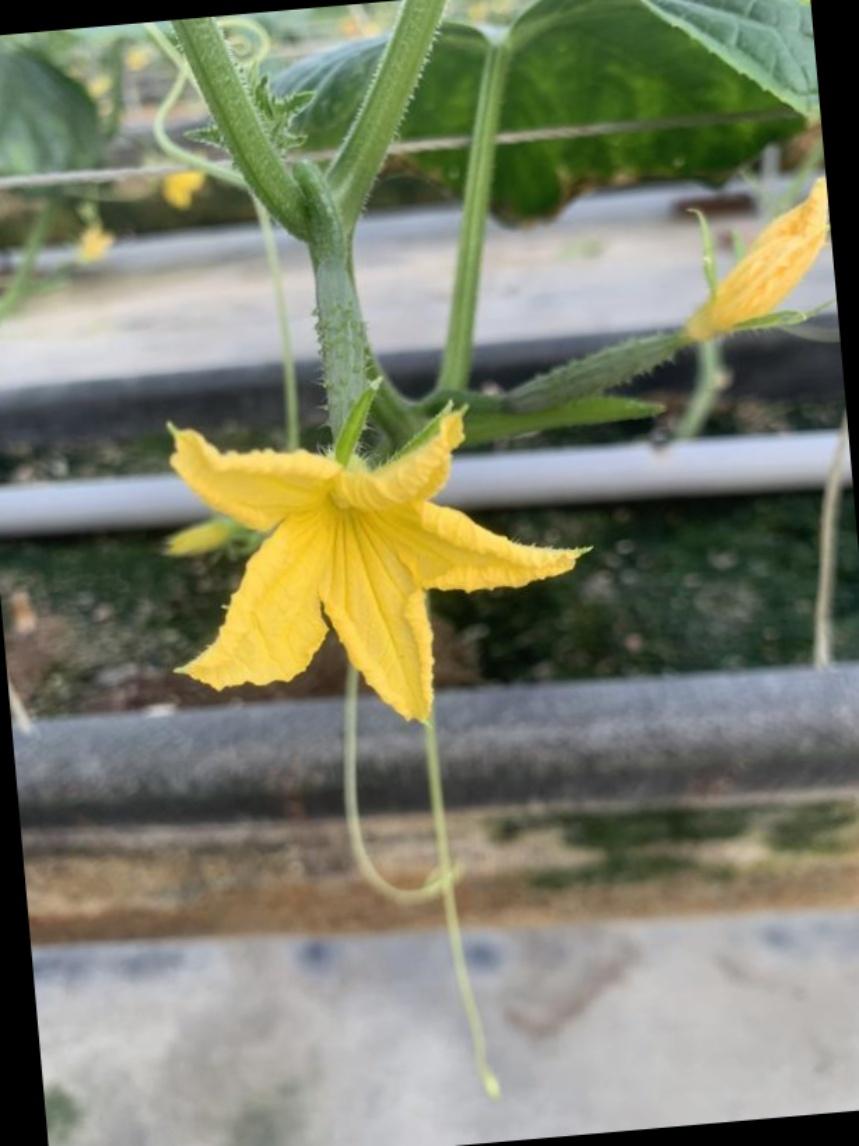bear: (493, 195, 826, 422)
